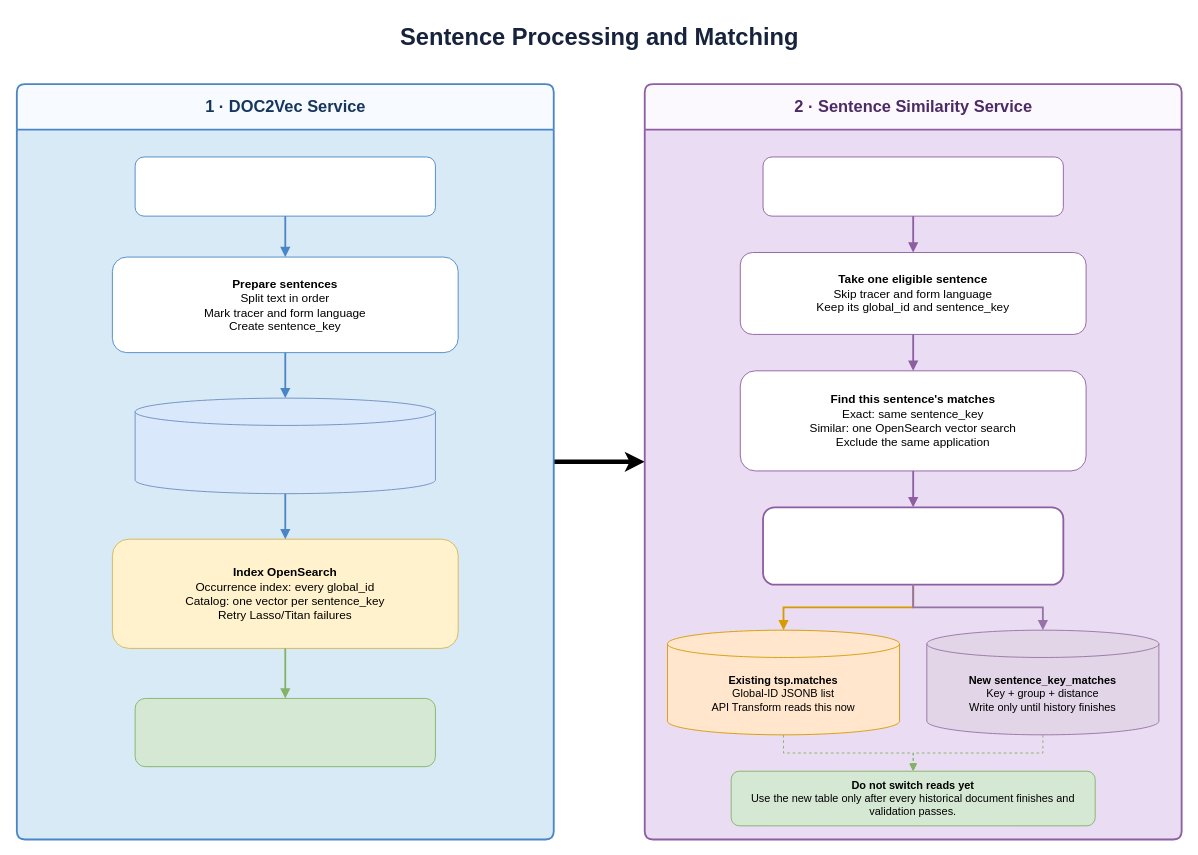
Image size: 1198x855. Some labels were removed from this diagram. Each missing label, with the centre of its shape:
"DOC2Vec complete Send tsp_id to Sentence Similarity" goes at point 284,732.
"Insert sentences_vector Save every sentence Receive every global_id" goes at point 284,445.
"Receive document tsp_id + full text" goes at point 284,186.
"Receive tsp_id Start after DOC2Vec completes" goes at point 912,186.
"Update both tables Write both directions and commit Then take the next sentence" goes at point 913,545.
